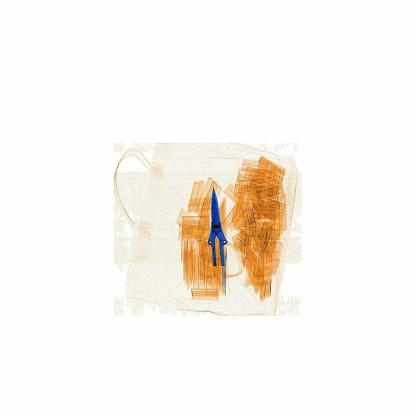gun: (193, 182, 253, 292)
